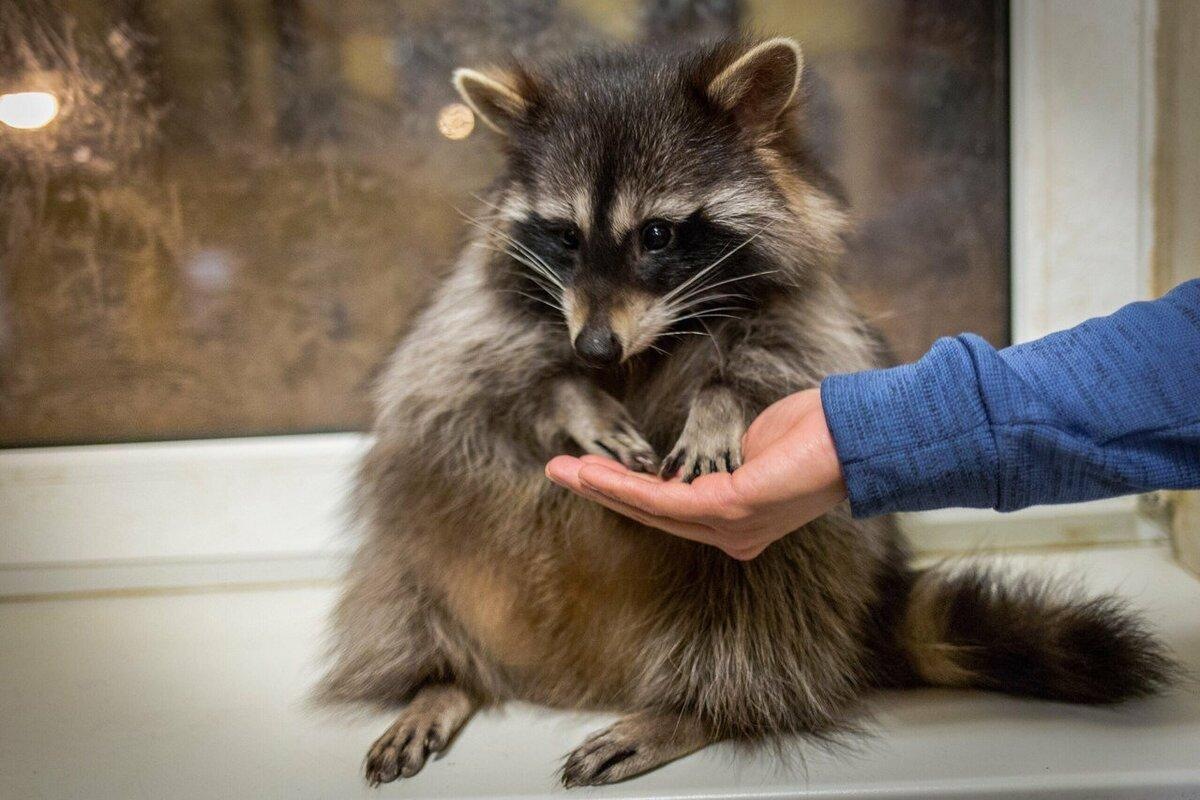raccoon: (334, 39, 1169, 791)
